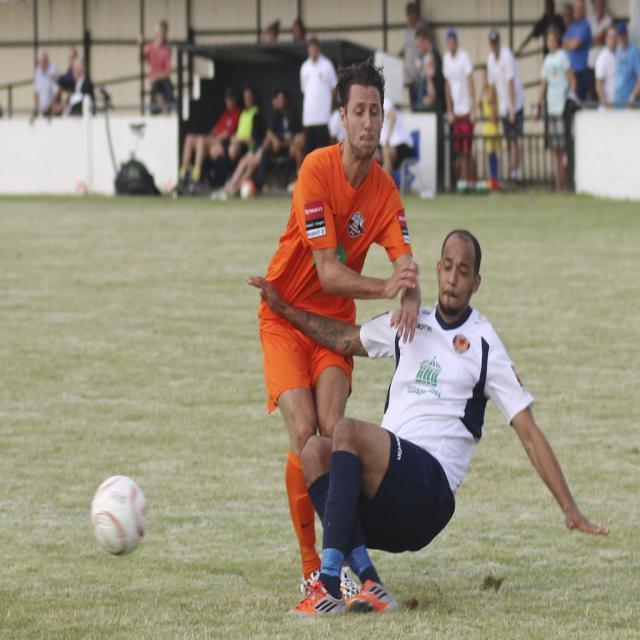football: (74, 465, 162, 574)
